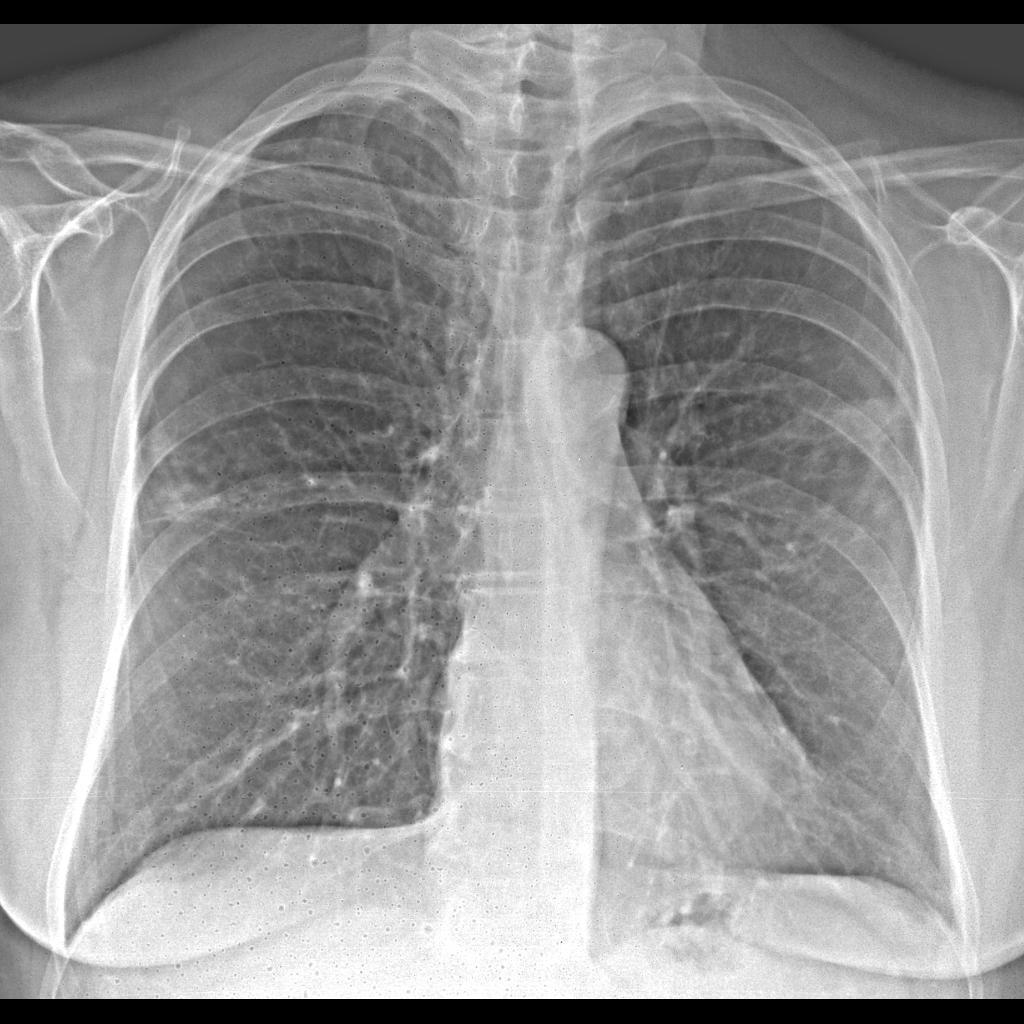Nodule: (825, 390, 919, 463), (146, 473, 225, 528)
